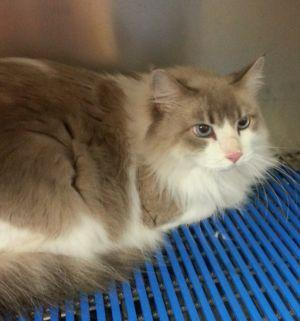ragdoll: (143, 39, 278, 186)
